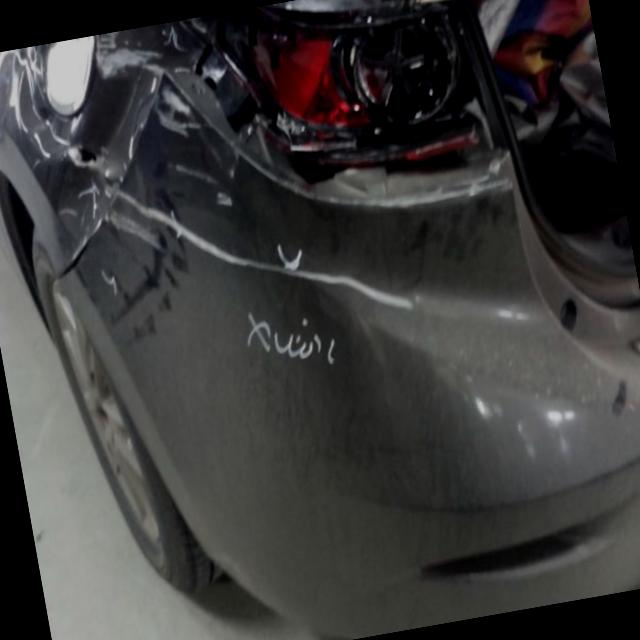Cabossage: (0, 22, 187, 176)
Dechirure: (33, 190, 144, 287)
Rayure: (107, 136, 418, 367)
